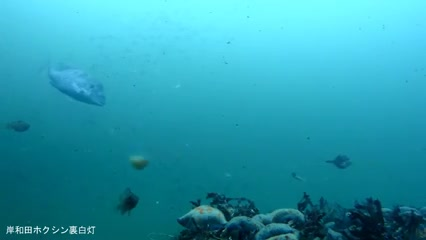kurodai: (45, 64, 113, 111)
